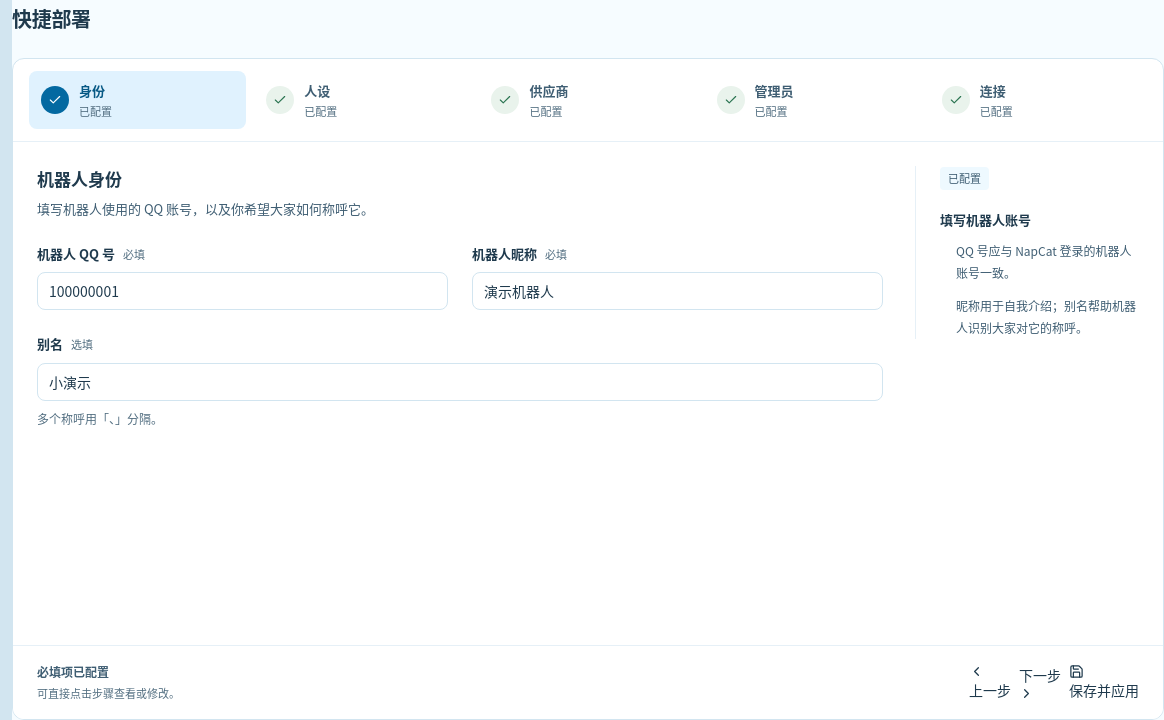
Deploy 分步配置 › 只展示当前步骤，前后导航和直接切换都保留草稿
expect the field showing "演示人设" is not shown: met
expect the button "保存并应用" is disabled: met, box [1069, 664, 1139, 701]
Replace the text in the field showing "演示机器人" with "新的昵称". click: (678, 291)
box: [472, 272, 883, 310]
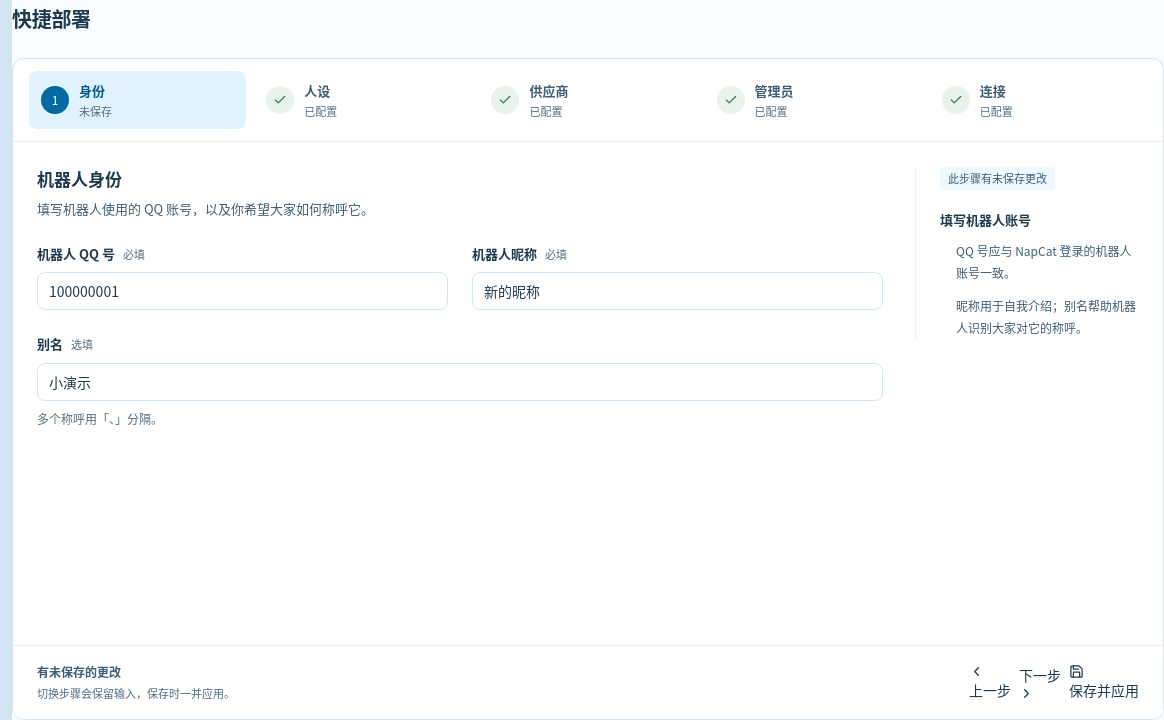
Click the button "下一步". click: (1040, 683)
box: [1019, 664, 1061, 701]
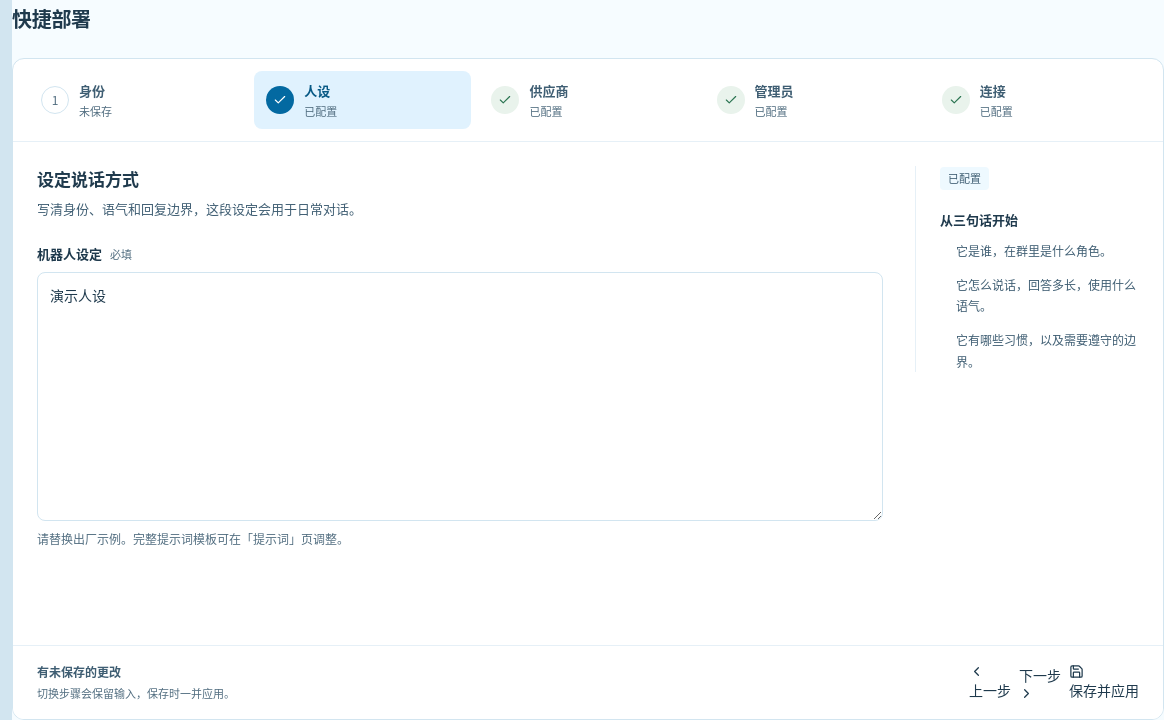
expect the text box showing "演示人设" is shown: met
Replace the text in the text box labelled "机器人设定 必填 请替换出厂示例。完整提示词模板可在「提示词」页调整。" with "新的说话方式". click: (460, 397)
box: [37, 272, 883, 521]
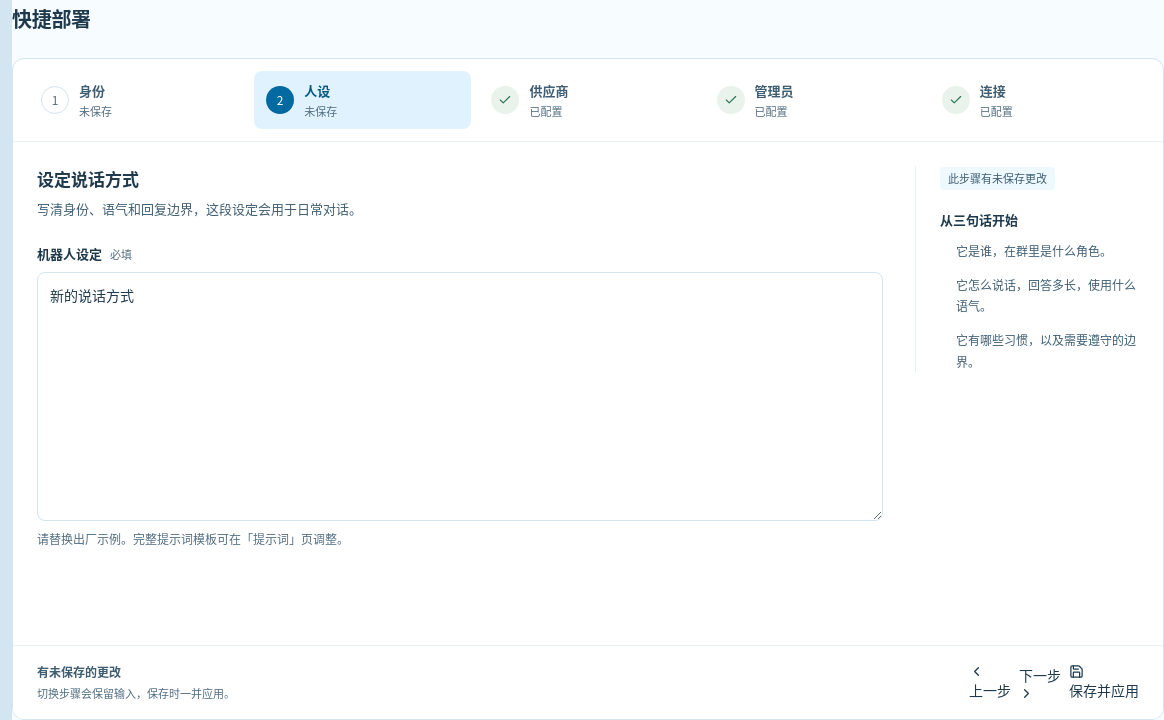
Click the button "上一步". click: (990, 683)
box: [969, 664, 1011, 701]
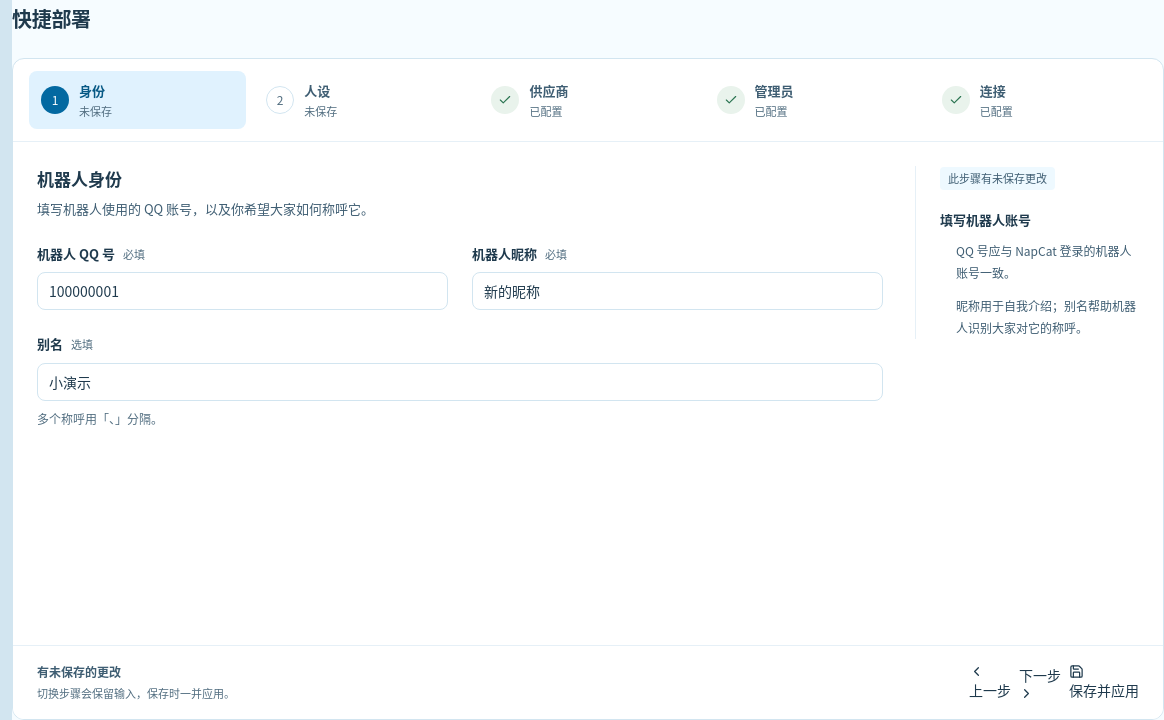
expect the field showing "新的昵称" is shown: met, box [472, 272, 883, 310]
Click the tab "2 人设 未保存". click: (363, 100)
box: [254, 71, 471, 129]
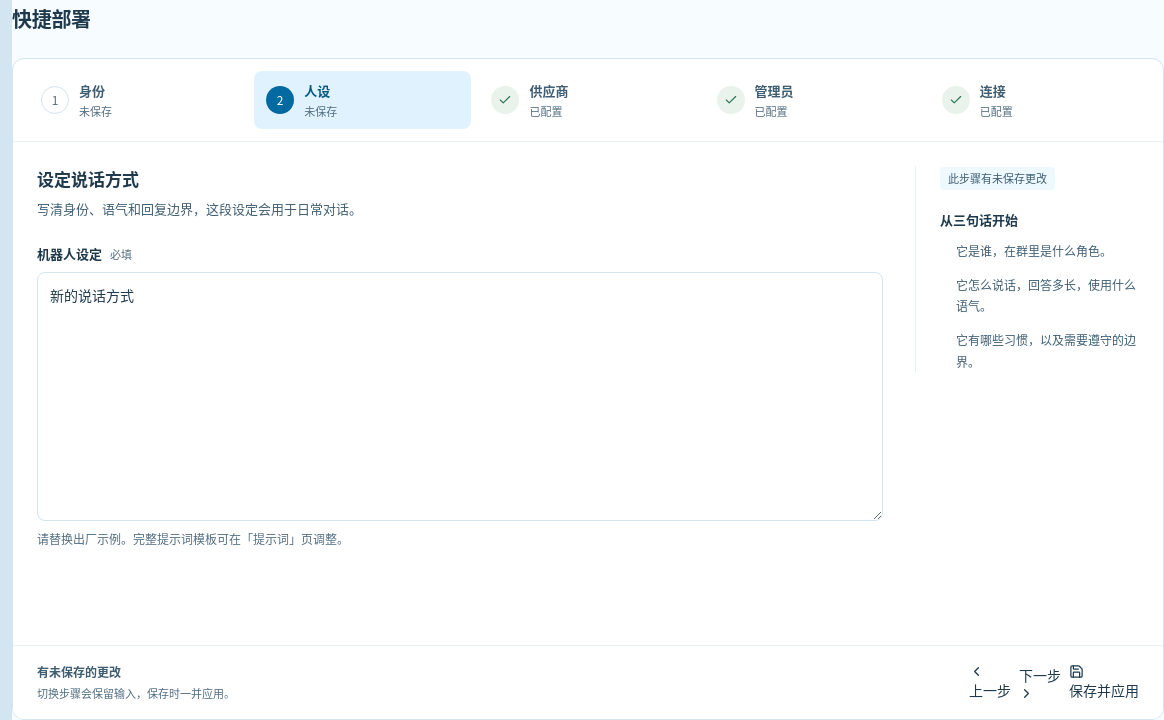
expect the text box showing "新的说话方式" is shown: met, box [37, 272, 883, 521]
